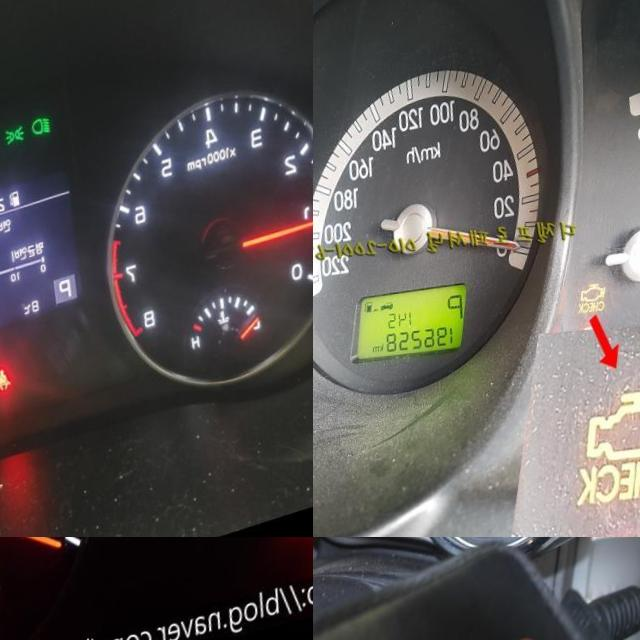FrontFogLight: (0, 132, 6, 158)
Low beam: (35, 119, 59, 142)
SideLamp: (10, 128, 33, 150)
